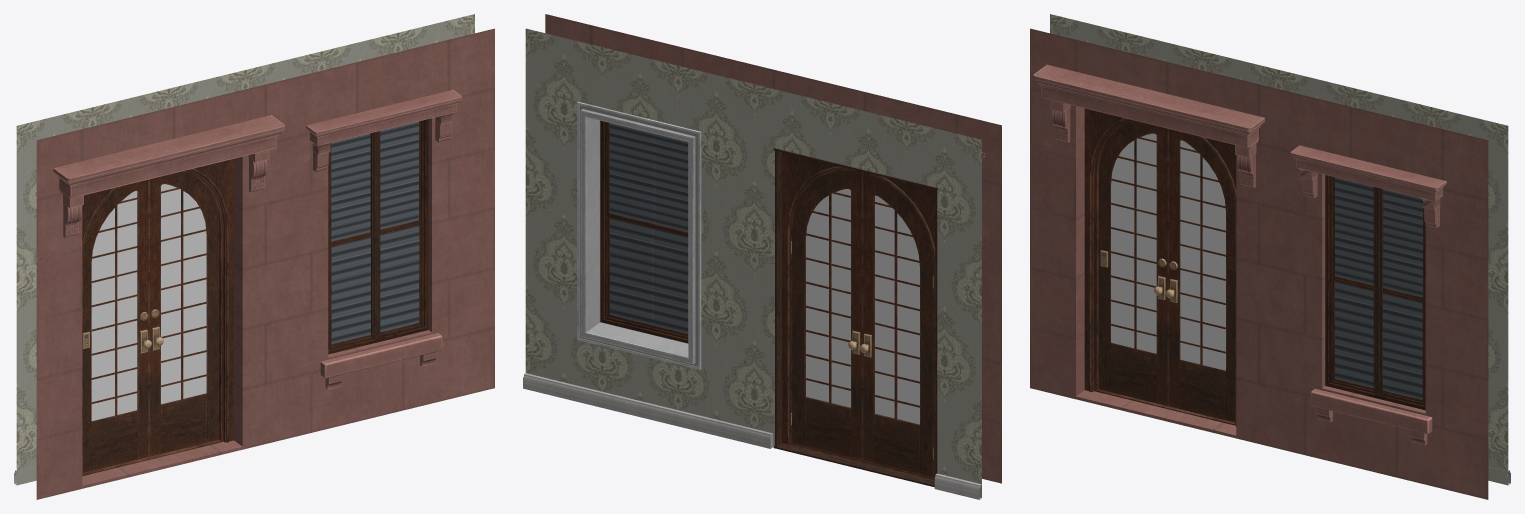
Rendered from House_04_Wall_Door_02.fbx.
The picture shows the model from 3 angles, left to right: view 1: azimuth 30°, elevation 25°; view 2: azimuth 150°, elevation 25°; view 3: azimuth 330°, elevation 25°; orthographic projection.
Parts seen in each view (by area): view 1: House_04_Wall_Door_02_LOD0, House_04_Door_02_LOD0; view 2: House_04_Wall_Door_02_LOD0, House_04_Door_02_LOD0; view 3: House_04_Wall_Door_02_LOD0, House_04_Door_02_LOD0.
Part boxes in pixels (x1,y1,x2,y2): House_04_Wall_Door_02_LOD0: (14, 14, 494, 499); House_04_Door_02_LOD0: (149, 171, 219, 456); House_04_Wall_Door_02_LOD0: (523, 14, 1001, 499); House_04_Door_02_LOD0: (790, 169, 862, 460); House_04_Wall_Door_02_LOD0: (1030, 14, 1510, 499); House_04_Door_02_LOD0: (1165, 129, 1234, 422).
Size of what is drawn, in the model's own units: 400 by 300 by 56.63.
